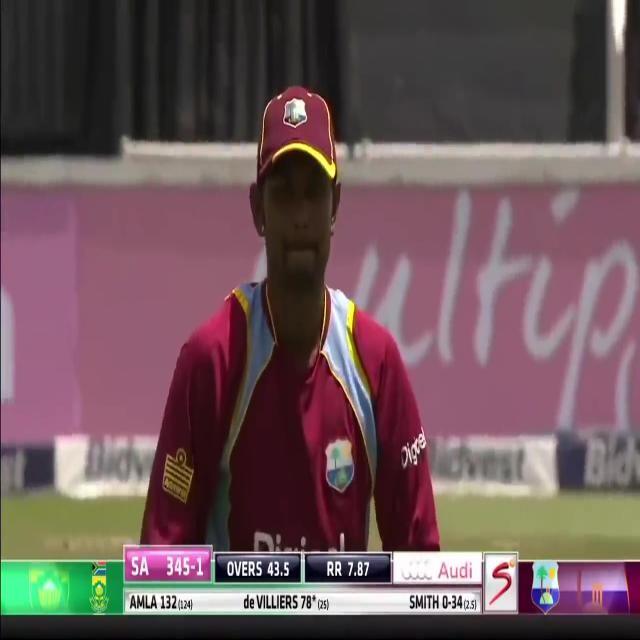Fielder: (134, 75, 437, 552)
